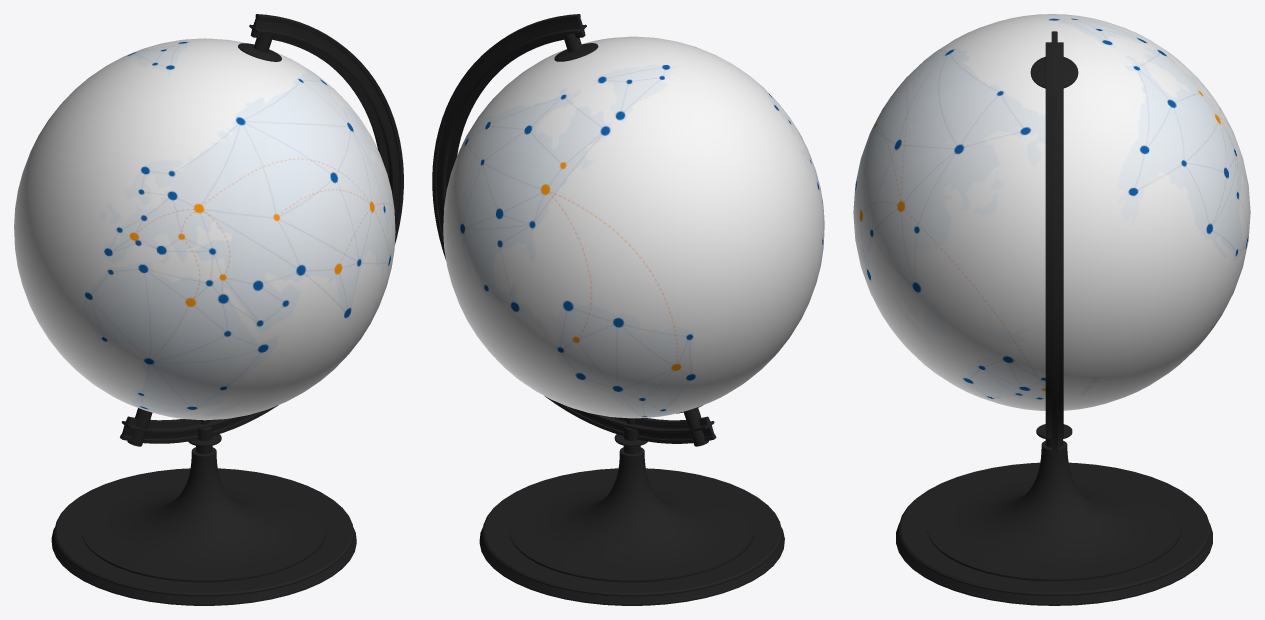
File: map.obj
3 views of the same model, side by side, from view 1: azimuth 30°, elevation 25°; view 2: azimuth 150°, elevation 25°; view 3: azimuth 270°, elevation 25° (orthographic). The views are drawn at different scales.
Visible parts, largest first — view 1: Country_Icon_Tex; view 2: Country_Icon_Tex; view 3: Country_Icon_Tex.
Boxes of the visible parts, x1=… form: Country_Icon_Tex: x1=14, y1=14, x2=403, y2=605; Country_Icon_Tex: x1=432, y1=14, x2=824, y2=605; Country_Icon_Tex: x1=853, y1=14, x2=1250, y2=605.
Size of the model in its own units: 0.6272 by 0.8447 by 0.5691.
